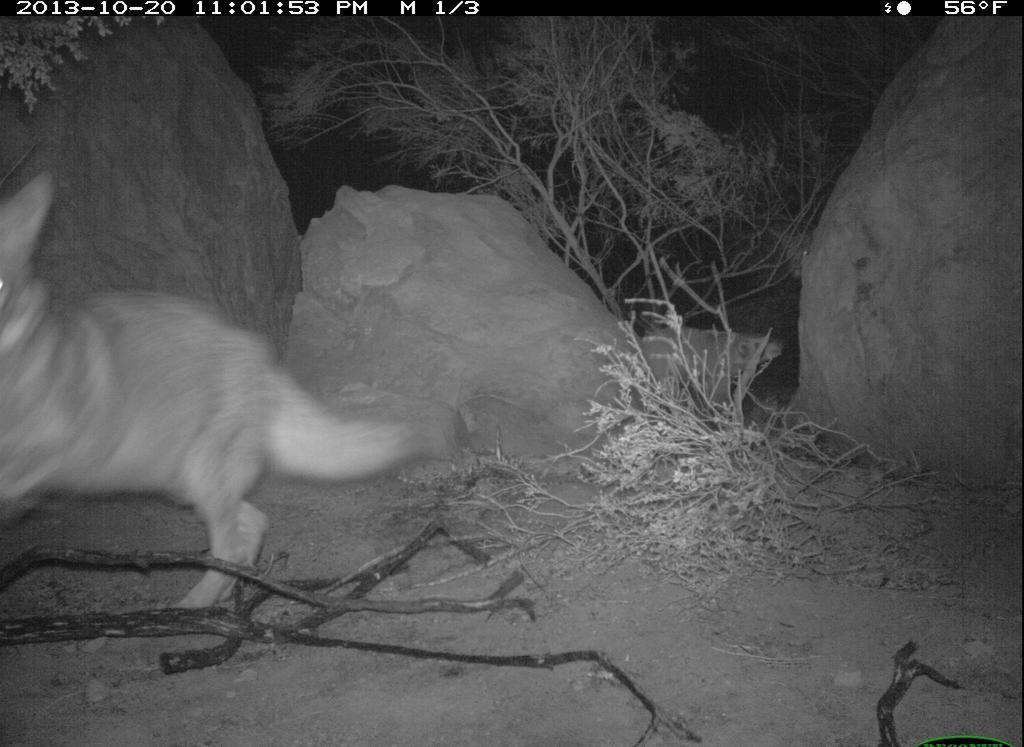badger: (635, 321, 789, 422)
coyote: (2, 166, 434, 620), (765, 221, 823, 286)
